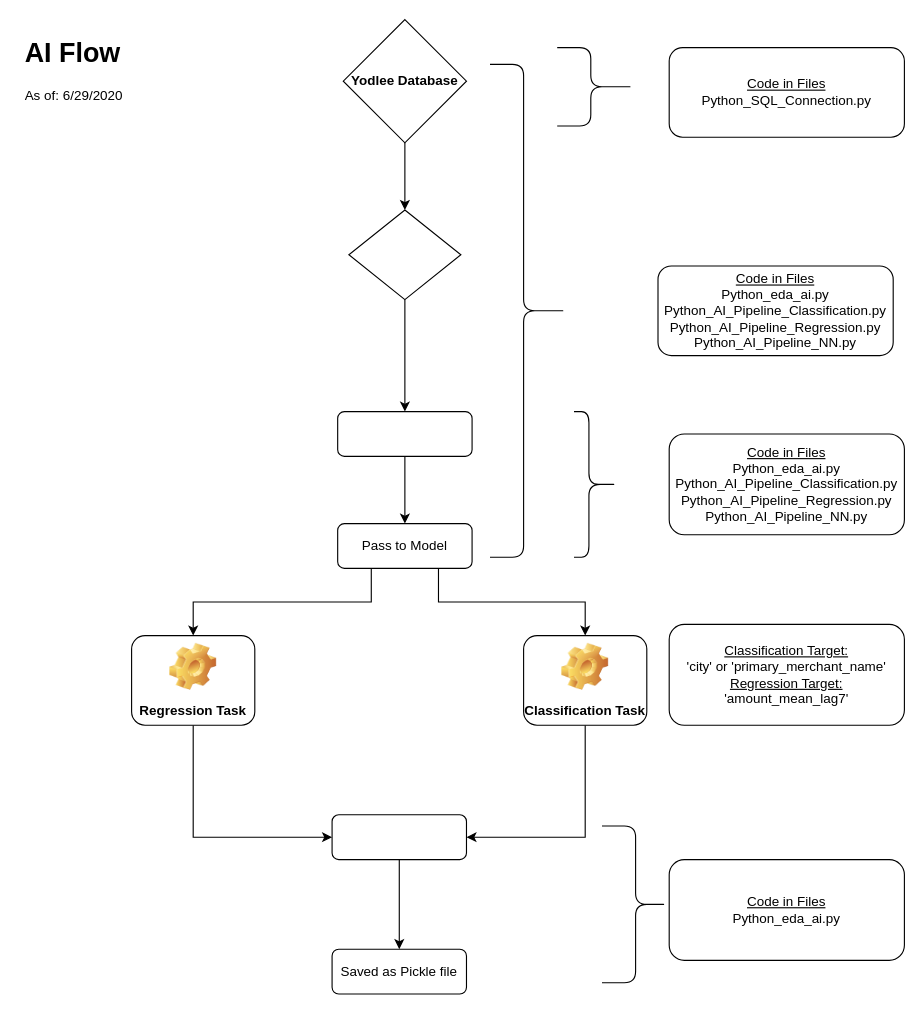
Image size: 924x1014. Some labels were removed from this diagram. The centre of each missing label's shape, as x and y in pixels:
"Data Transfer Preprocessing" belongs at point 404,254.
"Evaluation of Prediction Accuracy" belongs at point 398,837.
"Split of Data - Training and Test" belongs at point 404,433.
